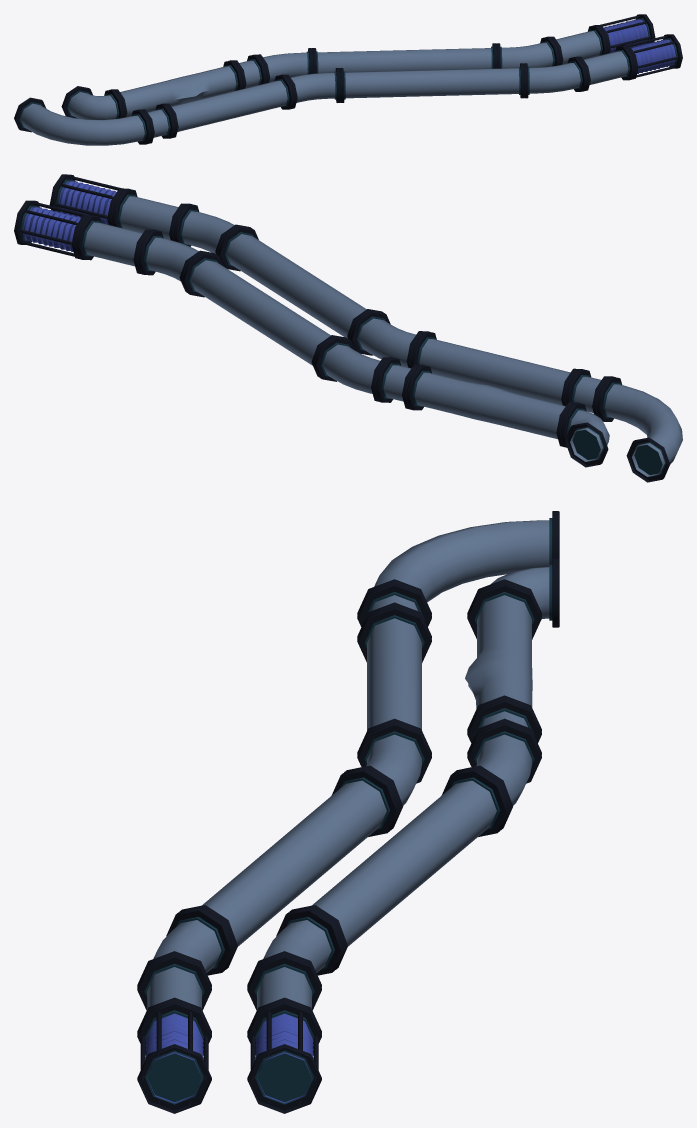
Rendered from PipeComplexSmall_A_26.fbx.
3 views of the same model, one above another, from view 1: azimuth 30°, elevation 25°; view 2: azimuth 150°, elevation 25°; view 3: azimuth 270°, elevation 25° (orthographic). The views are drawn at different scales.
Visible parts, largest first — view 1: PipeComplexSmall_A_26.001; view 2: PipeComplexSmall_A_26.001; view 3: PipeComplexSmall_A_26.001.
Part boxes in pixels (x1,y1,x2,y2): PipeComplexSmall_A_26.001: (14, 14, 682, 145); PipeComplexSmall_A_26.001: (14, 174, 682, 482); PipeComplexSmall_A_26.001: (137, 511, 559, 1113).
Size of the model in its own units: 2.37 by 0.1356 by 0.7678.
